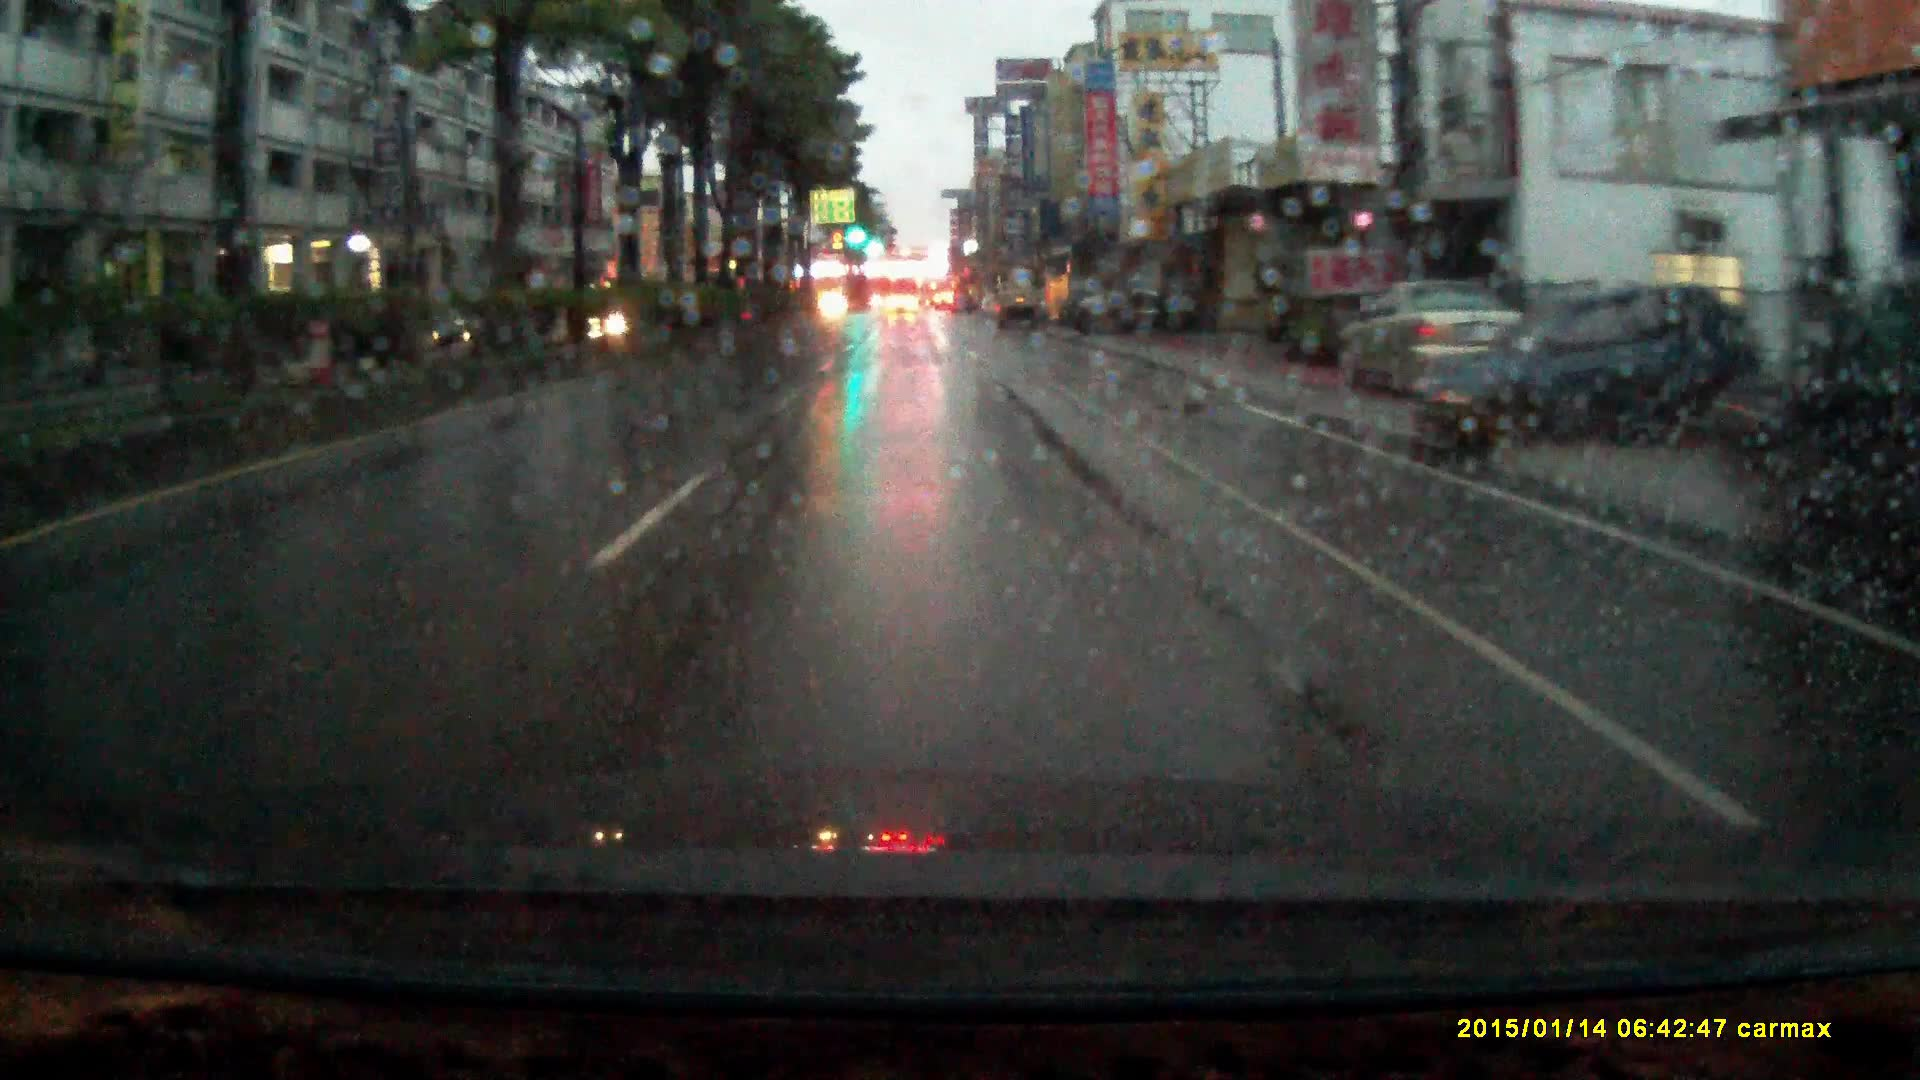vehicle: (1414, 286, 1799, 460), (1324, 284, 1534, 396), (1059, 291, 1215, 338), (993, 285, 1043, 334), (886, 295, 919, 320)
